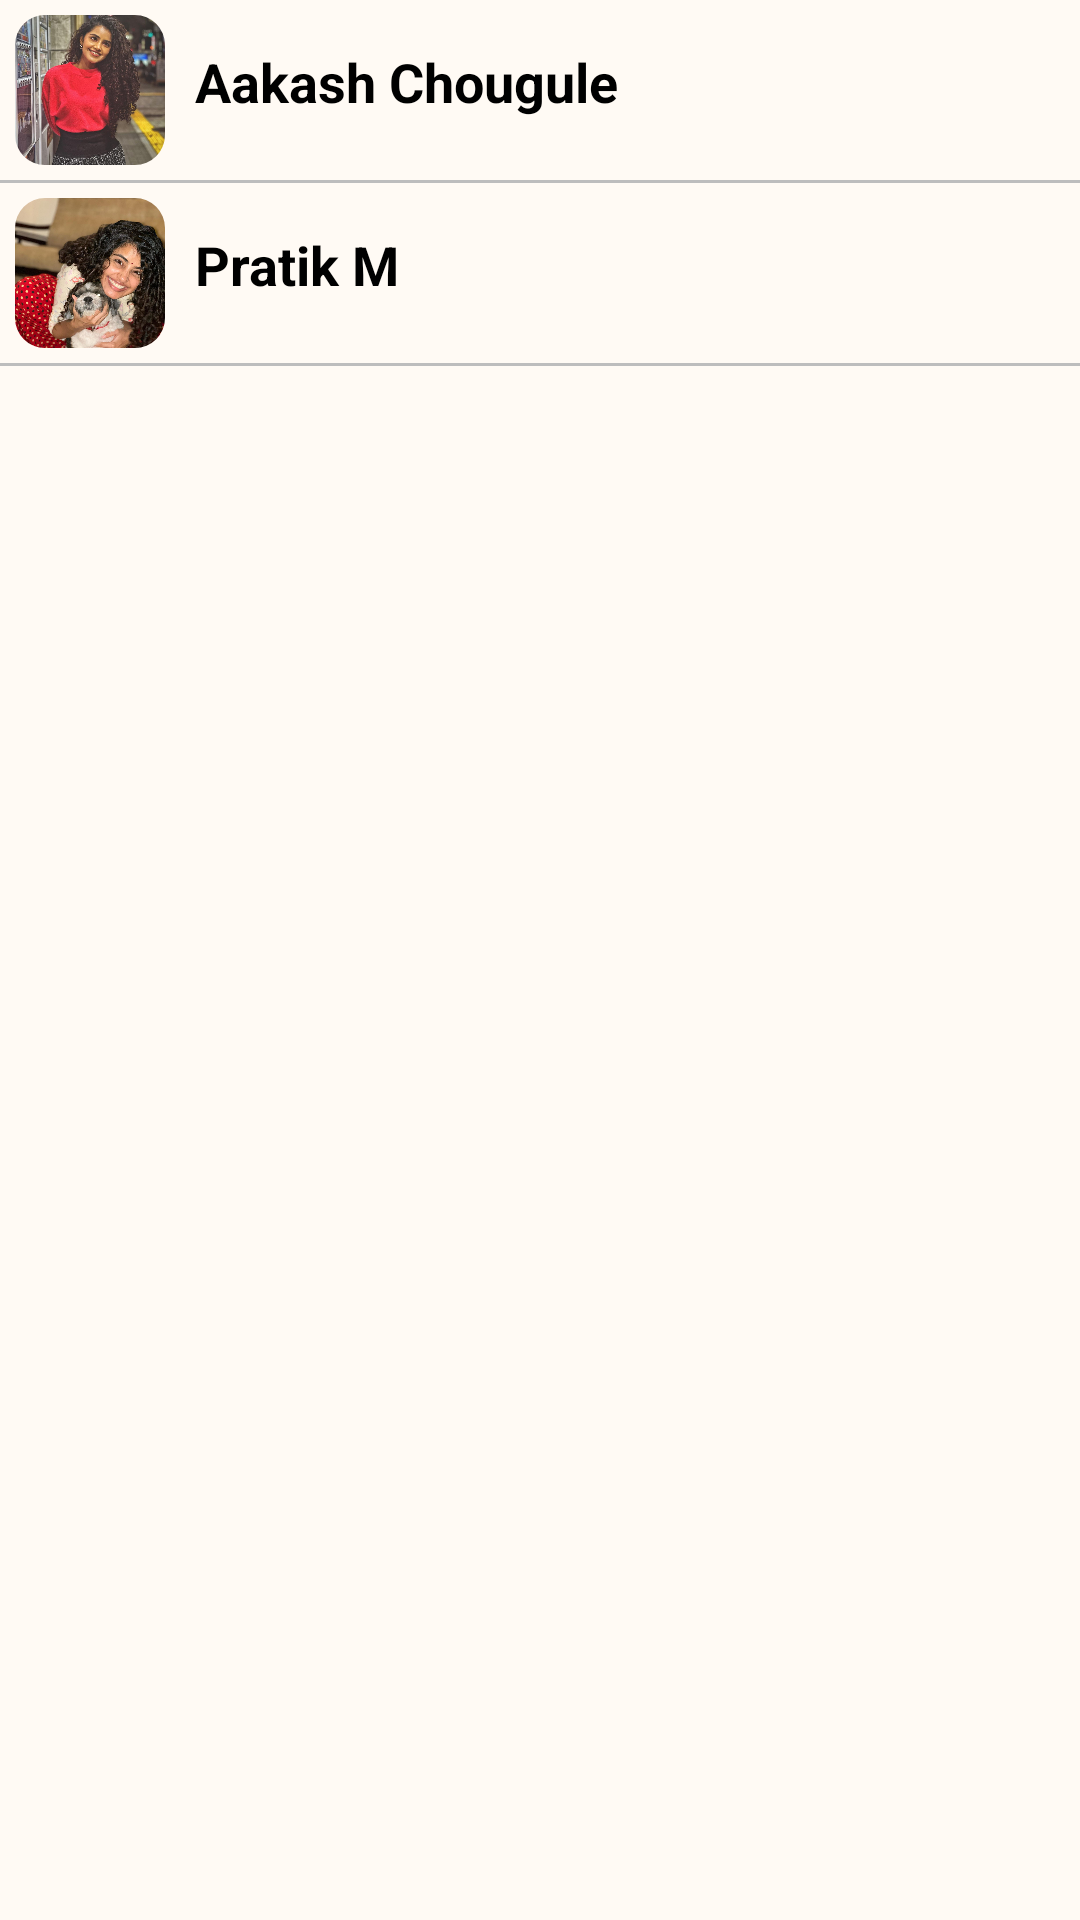

Where icons sit on this 1080×1920 app screen, as (x1, y1, x2, y2):
girl: (15, 15, 165, 165), (15, 198, 165, 348)
